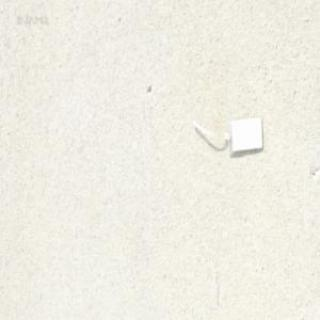LuggageTagtrack_idkeyframe: (190, 110, 264, 155)
